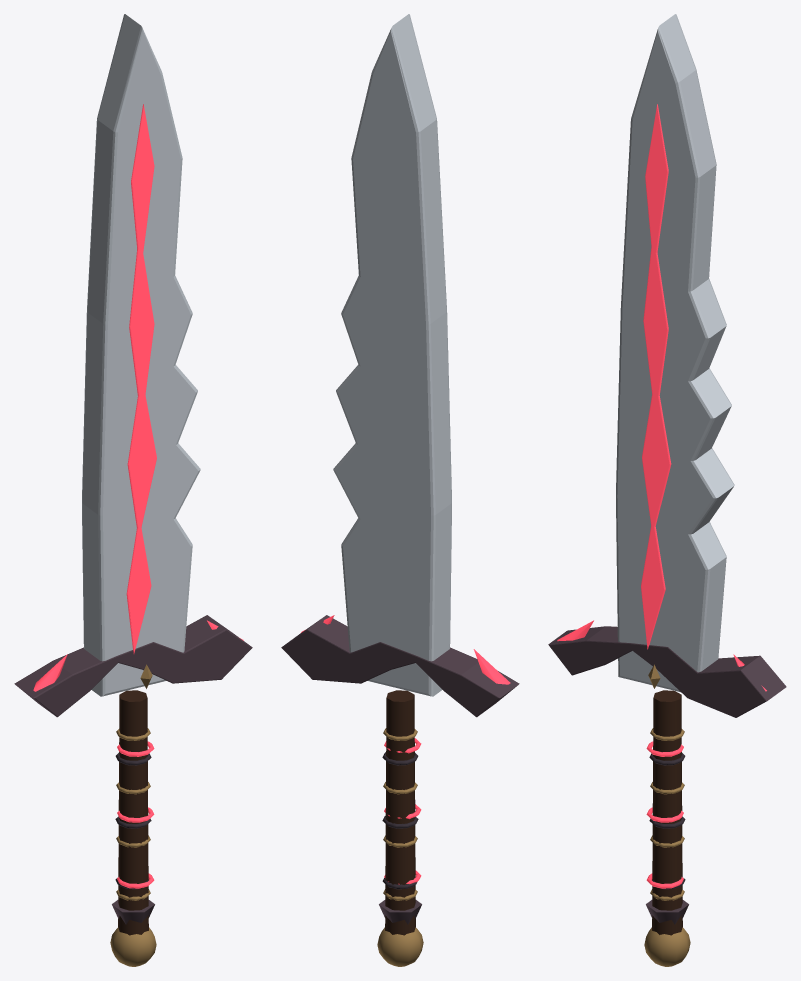
File: greatsword_f7_f1e5809b.glb
3 renders of one model, left to right at view 1: azimuth 30°, elevation 25°; view 2: azimuth 150°, elevation 25°; view 3: azimuth 330°, elevation 25°, orthographic.
Visible parts, largest first — view 1: m0_ow80_, m2_, m3_ow80_, m1_ow80_, m4_ow80_; view 2: m0_ow80_, m3_ow80_, m1_ow80_, m4_ow80_, m2_, m5_ow80_; view 3: m0_ow80_, m2_, m3_ow80_, m1_ow80_, m4_ow80_.
Part boxes in pixels (bbox=[...]): m0_ow80_: bbox=[82, 14, 200, 696]; m2_: bbox=[33, 104, 243, 888]; m3_ow80_: bbox=[14, 615, 252, 924]; m1_ow80_: bbox=[118, 690, 148, 935]; m4_ow80_: bbox=[110, 664, 156, 966]; m0_ow80_: bbox=[333, 14, 451, 696]; m3_ow80_: bbox=[281, 615, 519, 924]; m1_ow80_: bbox=[385, 690, 415, 935]; m4_ow80_: bbox=[377, 728, 423, 966]; m2_: bbox=[301, 615, 510, 884]; m5_ow80_: bbox=[382, 752, 418, 889]; m0_ow80_: bbox=[616, 14, 734, 692]; m2_: bbox=[557, 104, 766, 888]; m3_ow80_: bbox=[548, 626, 786, 924]; m1_ow80_: bbox=[652, 690, 682, 935]; m4_ow80_: bbox=[644, 664, 690, 966].
Bounding box in the file's own units: 0.8712 × 3.59 × 0.1899.
